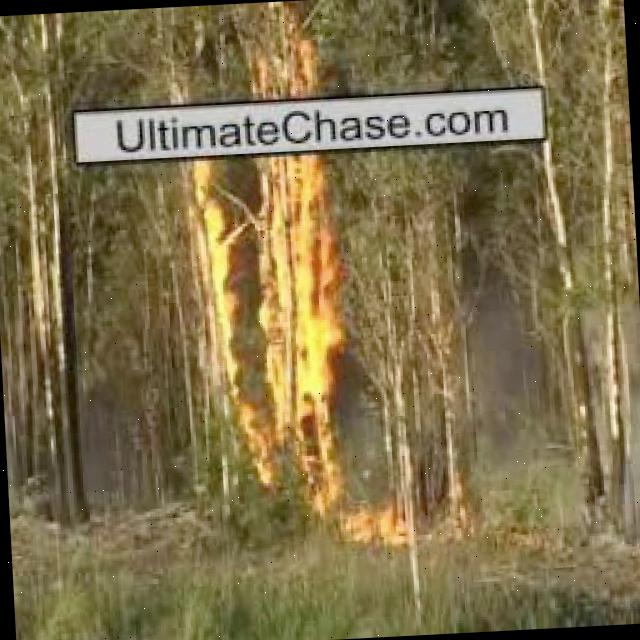fire: (180, 154, 364, 512), (244, 16, 322, 106), (338, 514, 412, 548)
